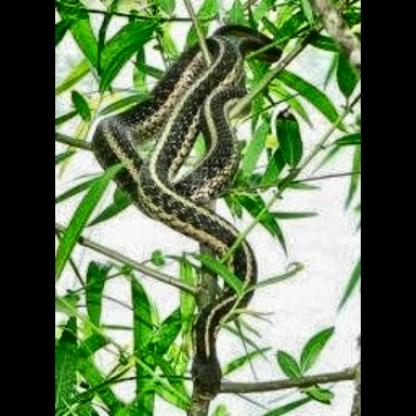Snake: (82, 29, 257, 401)
